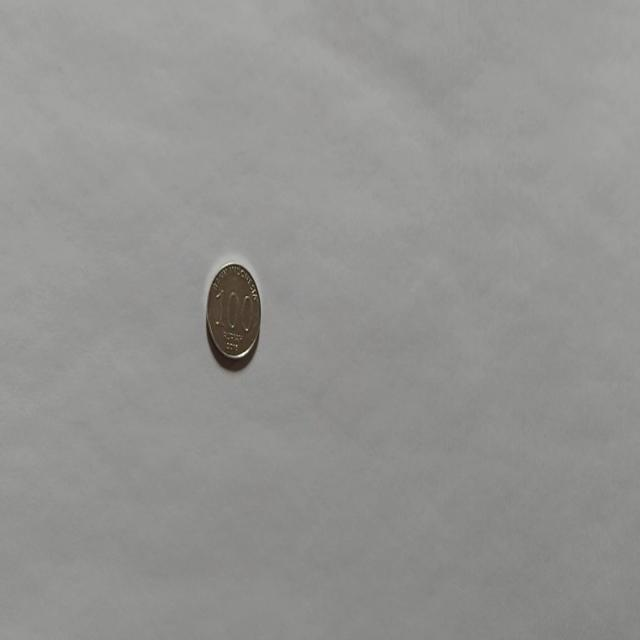seratus rupiah: (205, 260, 261, 364)
